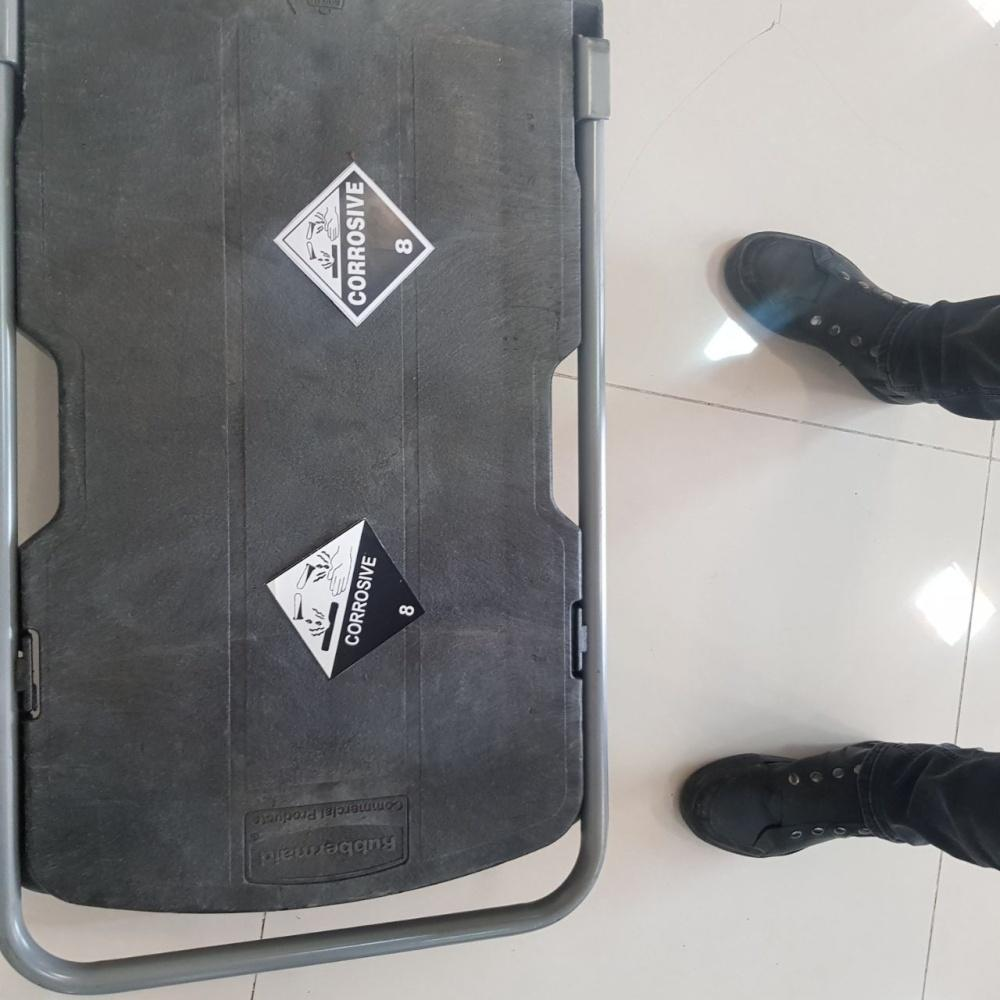corrosive: (264, 516, 430, 679), (283, 170, 428, 316)
